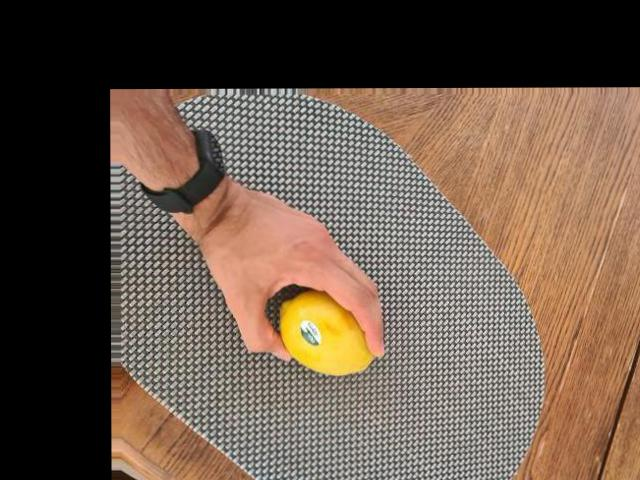lemon: (276, 291, 382, 379)
